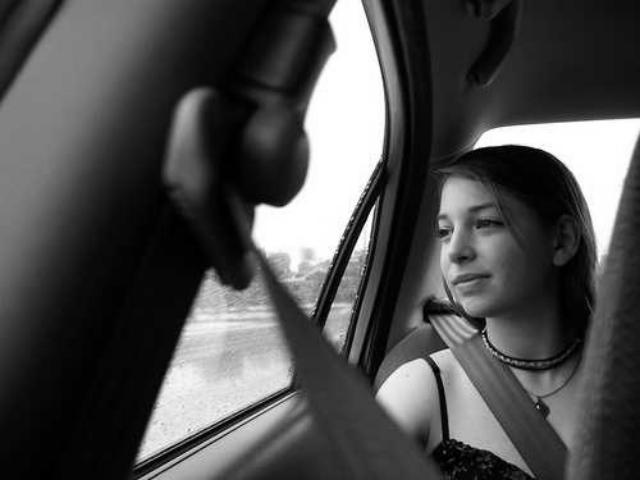SafeDriving: (467, 207, 509, 237), (428, 213, 458, 244)
Seatbelt: (422, 302, 574, 480)
